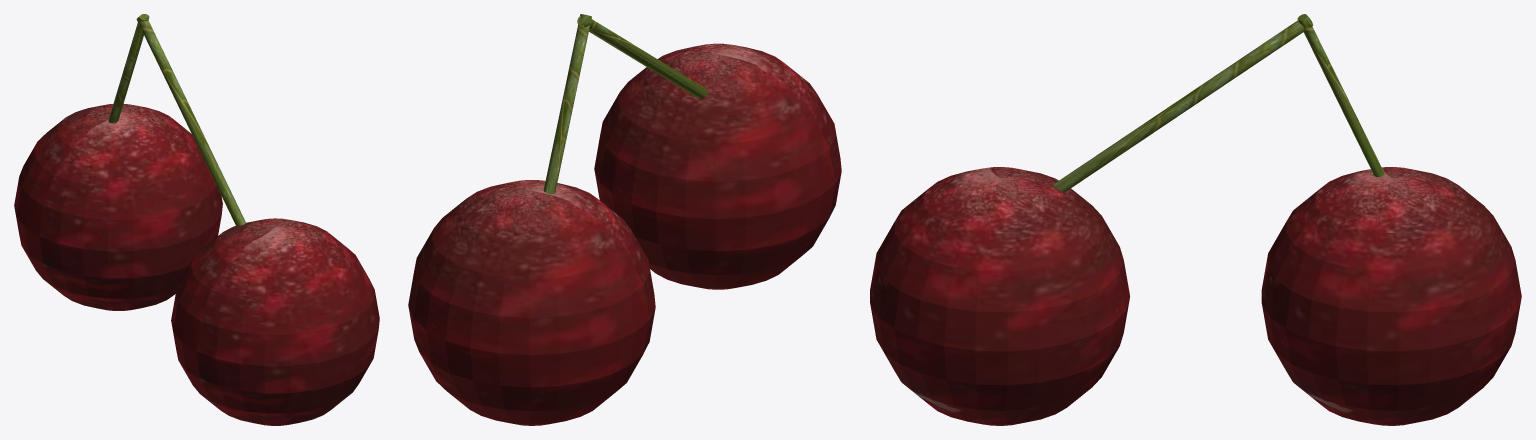
The model's file is Cherry.fbx.
3 views of the same model, side by side, from view 1: azimuth 30°, elevation 25°; view 2: azimuth 150°, elevation 25°; view 3: azimuth 270°, elevation 25° (orthographic). The views are drawn at different scales.
Parts seen in each view (by area): view 1: BodyLeft, BodyRight, Cylinder, Cylinder.001; view 2: BodyRight, BodyLeft, Cylinder.001, Cylinder; view 3: BodyRight, BodyLeft, Cylinder, Cylinder.001.
Boxes of the visible parts, x1,y1,x2,y2 form: BodyLeft: (171,218,379,425); BodyRight: (14,104,222,310); Cylinder: (136,15,246,226); Cylinder.001: (108,14,149,122); BodyRight: (408,180,655,425); BodyLeft: (594,43,841,289); Cylinder.001: (543,14,591,194); Cylinder: (577,15,707,98); BodyRight: (1261,167,1521,425); BodyLeft: (870,167,1129,425); Cylinder: (1053,15,1313,191); Cylinder.001: (1297,14,1384,176).
Size of the model in its own units: 0.1996 by 0.4992 by 0.3324.
